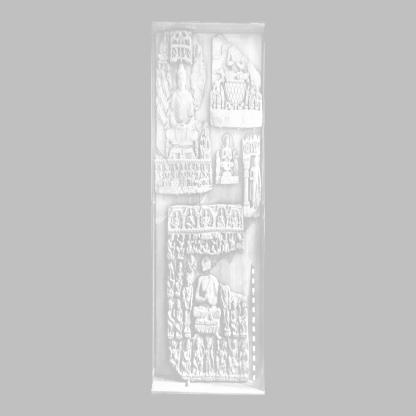buddha-sitting: (166, 63, 198, 159), (193, 256, 221, 334), (168, 205, 243, 231), (224, 46, 249, 108), (216, 133, 239, 185)
